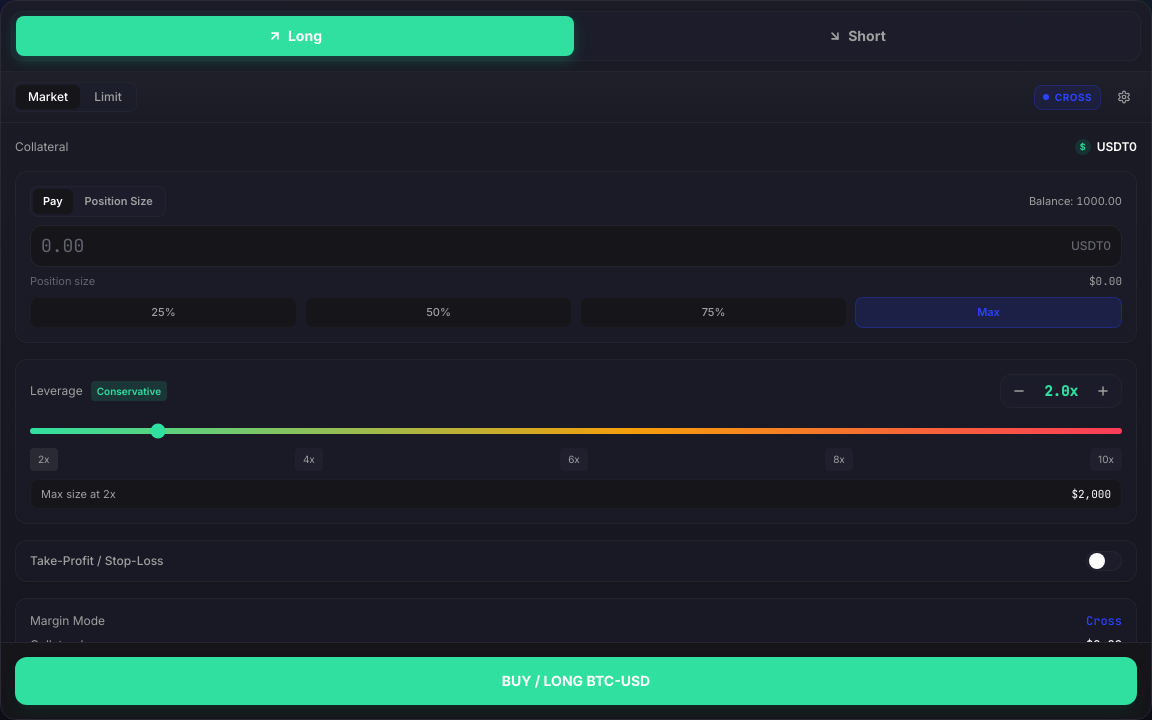
Test: TradingForm execution › blocks an invalid take-profit for a long via bracket validation
This screenshot has width=1152, height=720.
Type "100" into the number field with test id "margin-input" at (552, 246), box [41, 232, 1063, 260]
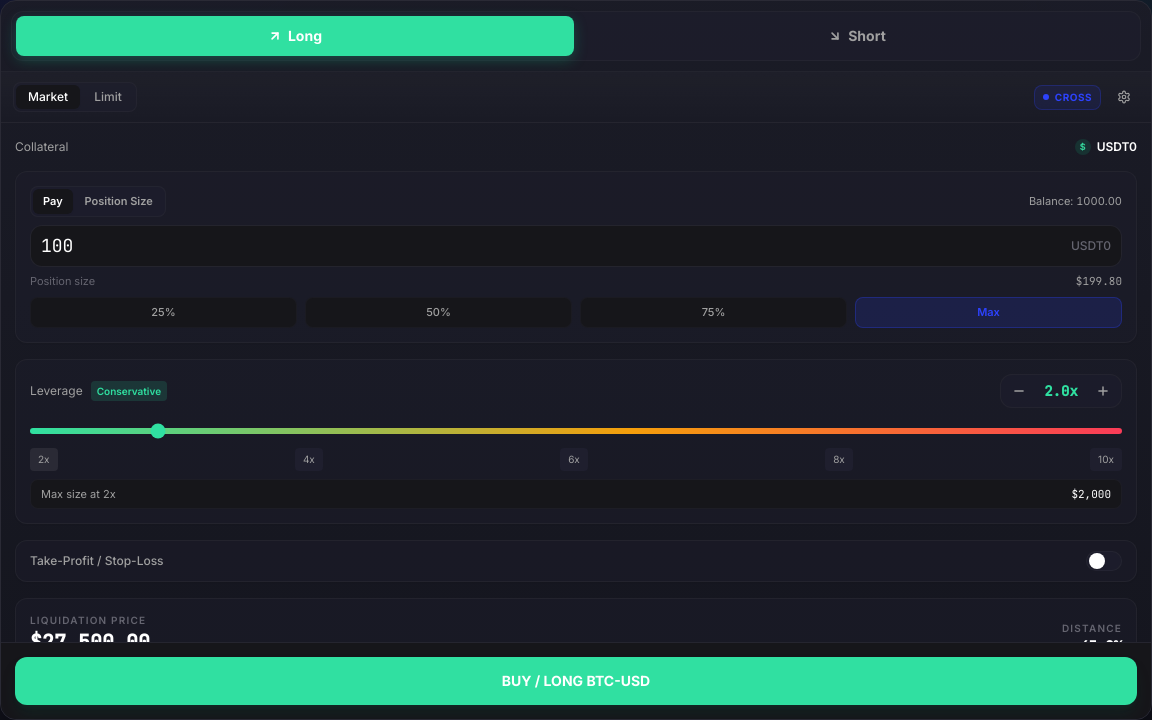
Click the switch with test id "bracket-toggle" at (1104, 561), box [1086, 551, 1122, 571]
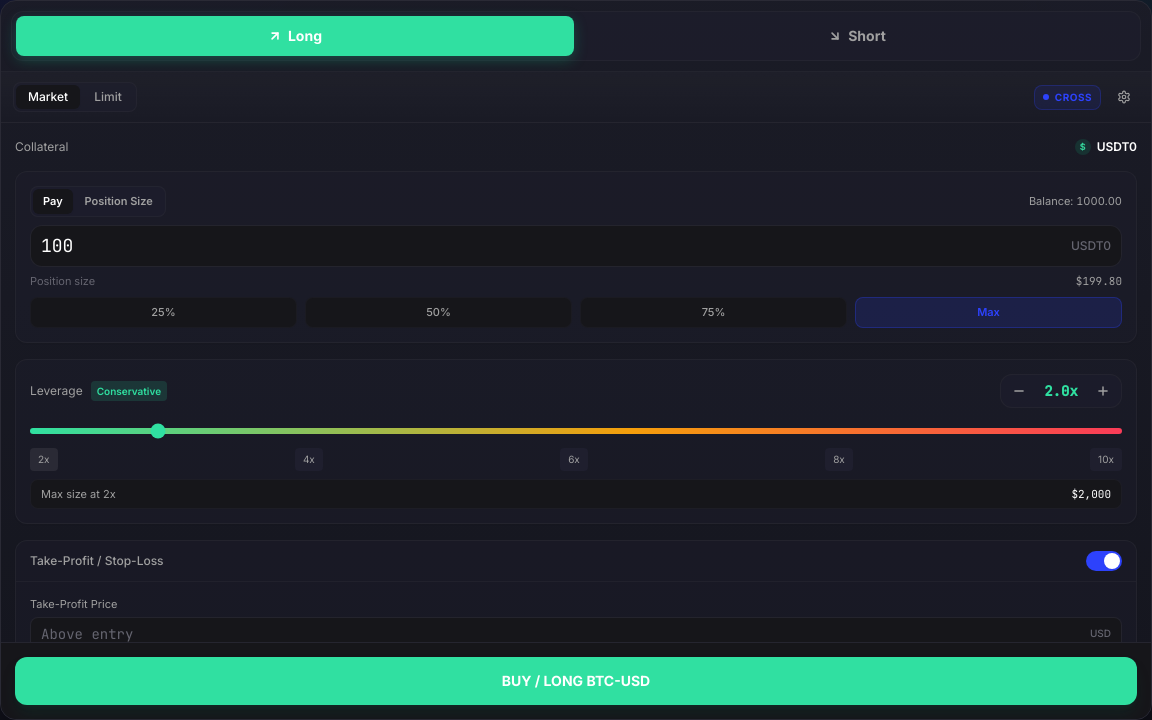
Type "40000" into the number field with test id "take-profit-price" at (561, 634), box [41, 624, 1082, 644]
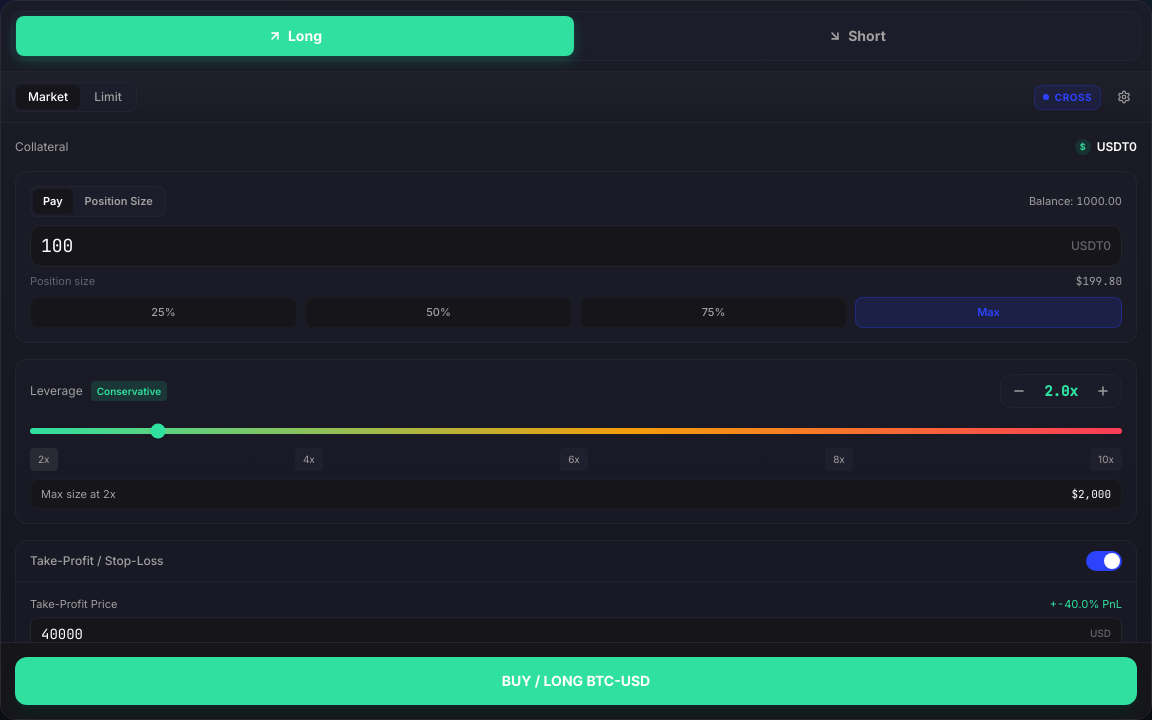
Click the button with test id "trade-button" at (576, 681), box [15, 657, 1137, 705]
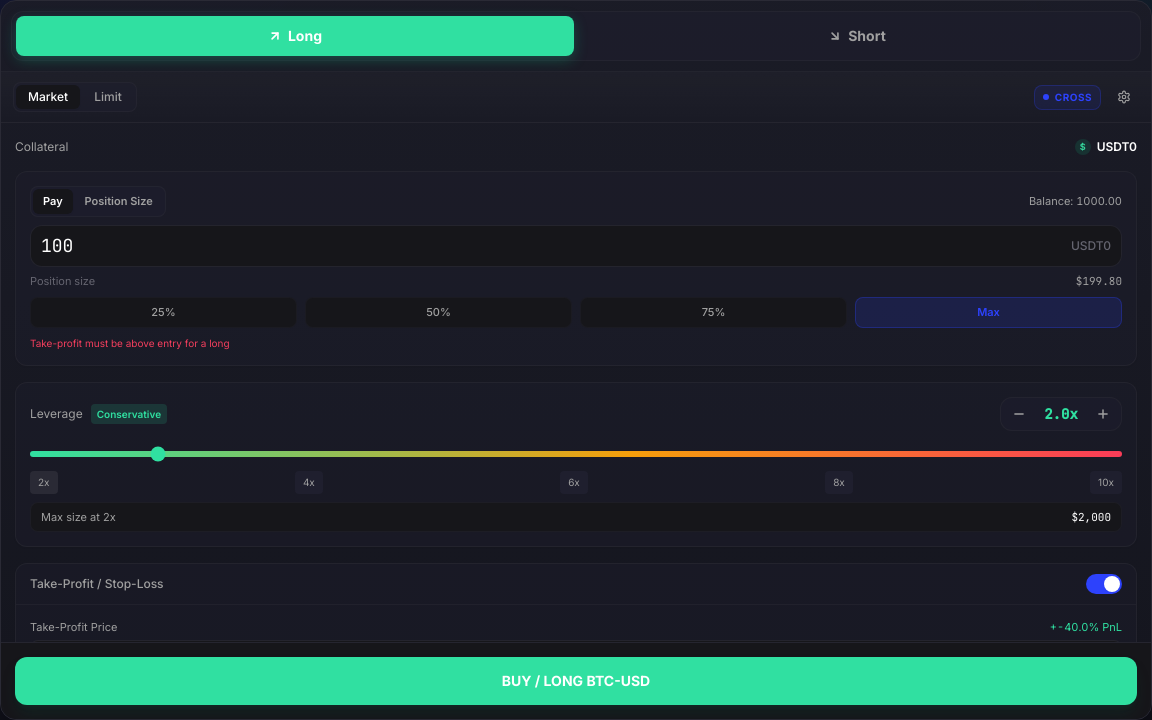
Expected: the text "Take-profit must be above entry for a long" is shown, [30, 336, 230, 348]
